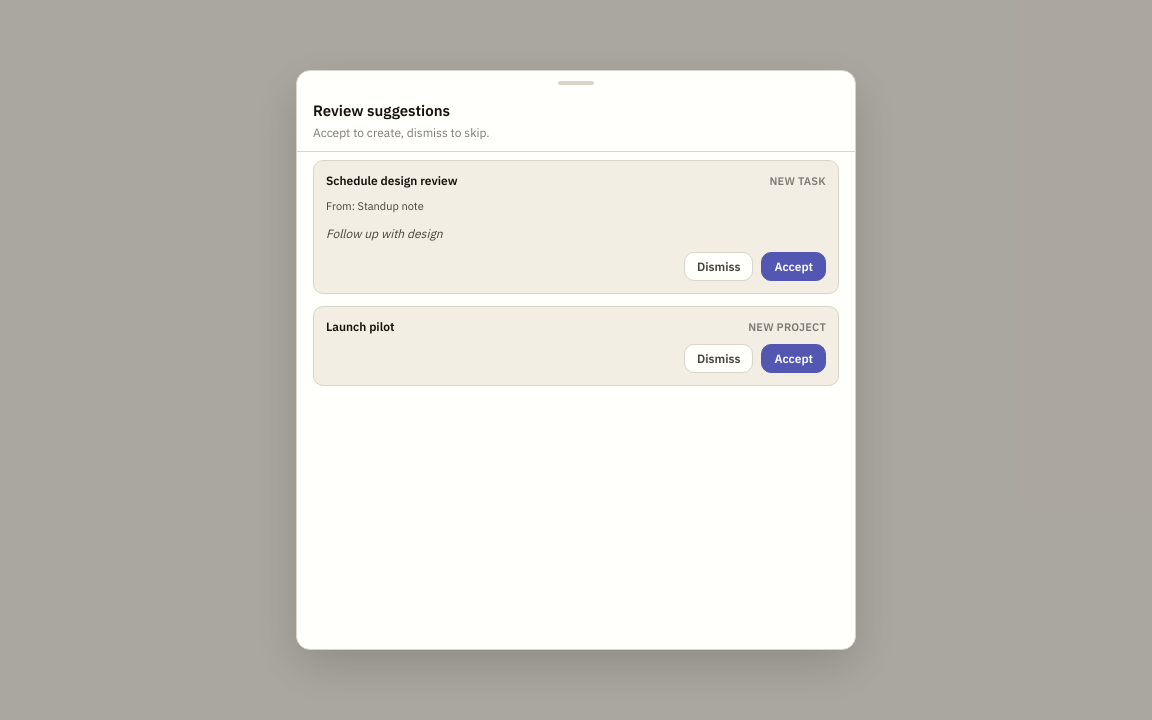
V5ReviewSheet › dismisses a suggestion without a reason
Expected: the heading "Launch pilot" is shown, [326,320,394,335]
Step 1. Click the button "Dismiss" below "New project" → x=719, y=358, box [684,344,753,373]
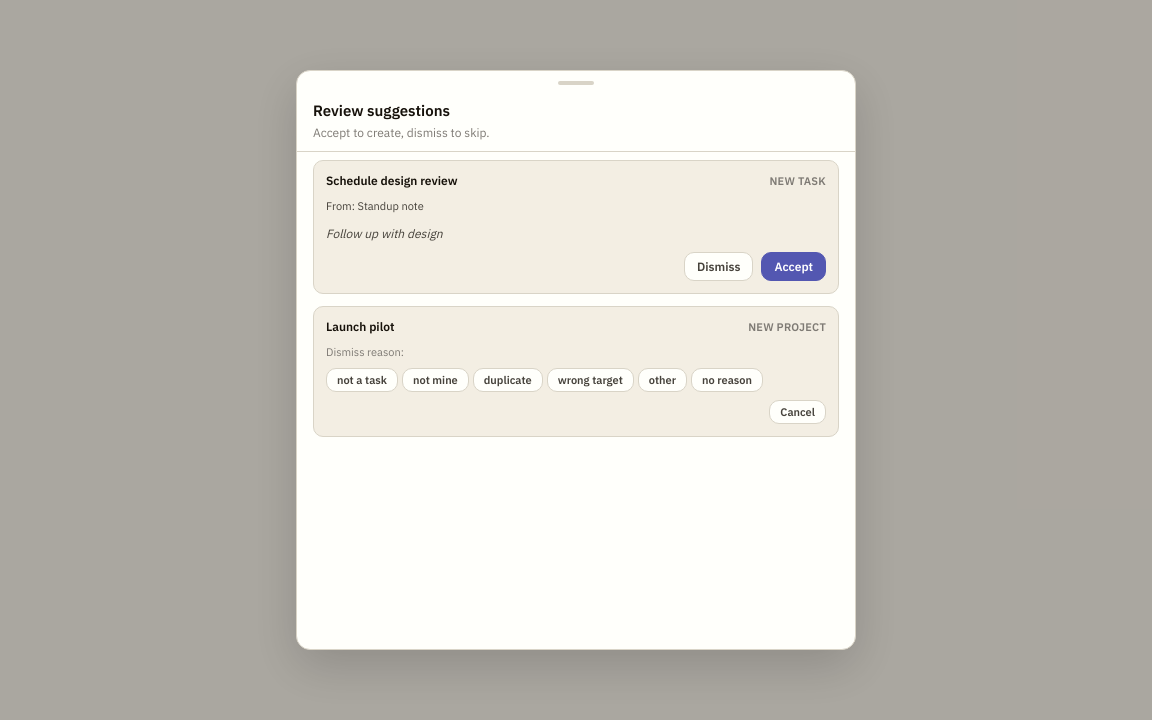
Step 2. Click the button "no reason" → x=727, y=380, box [691,368,763,392]
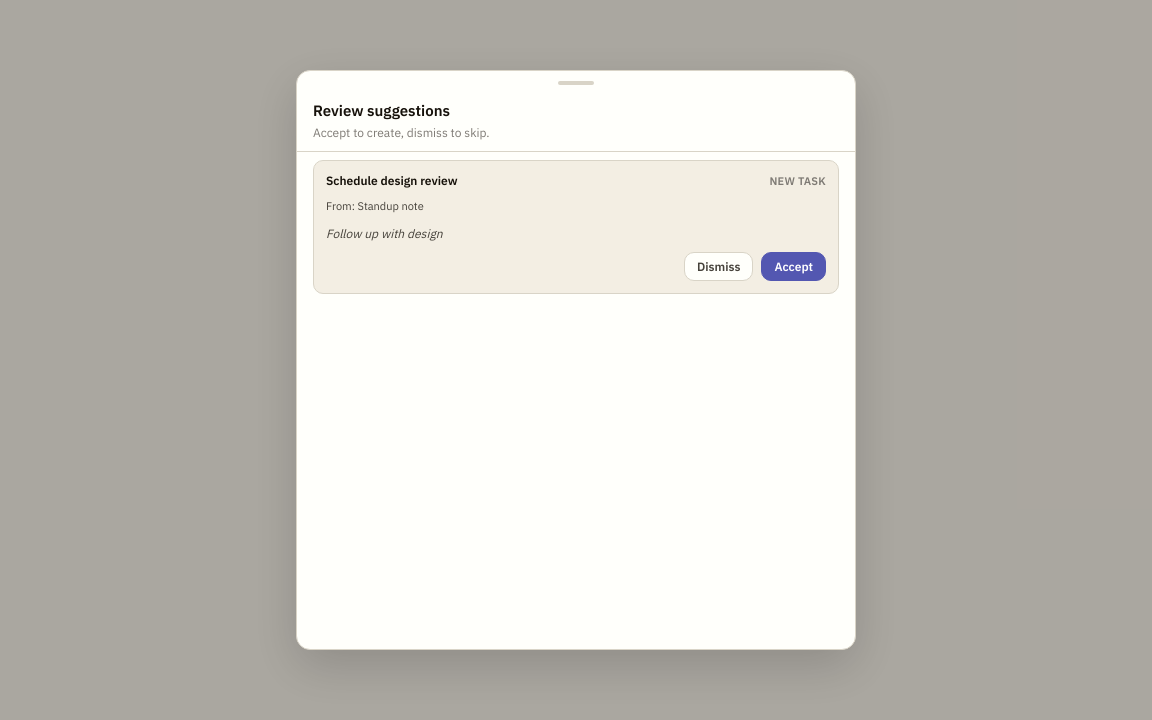
Now the heading "Launch pilot" is gone
